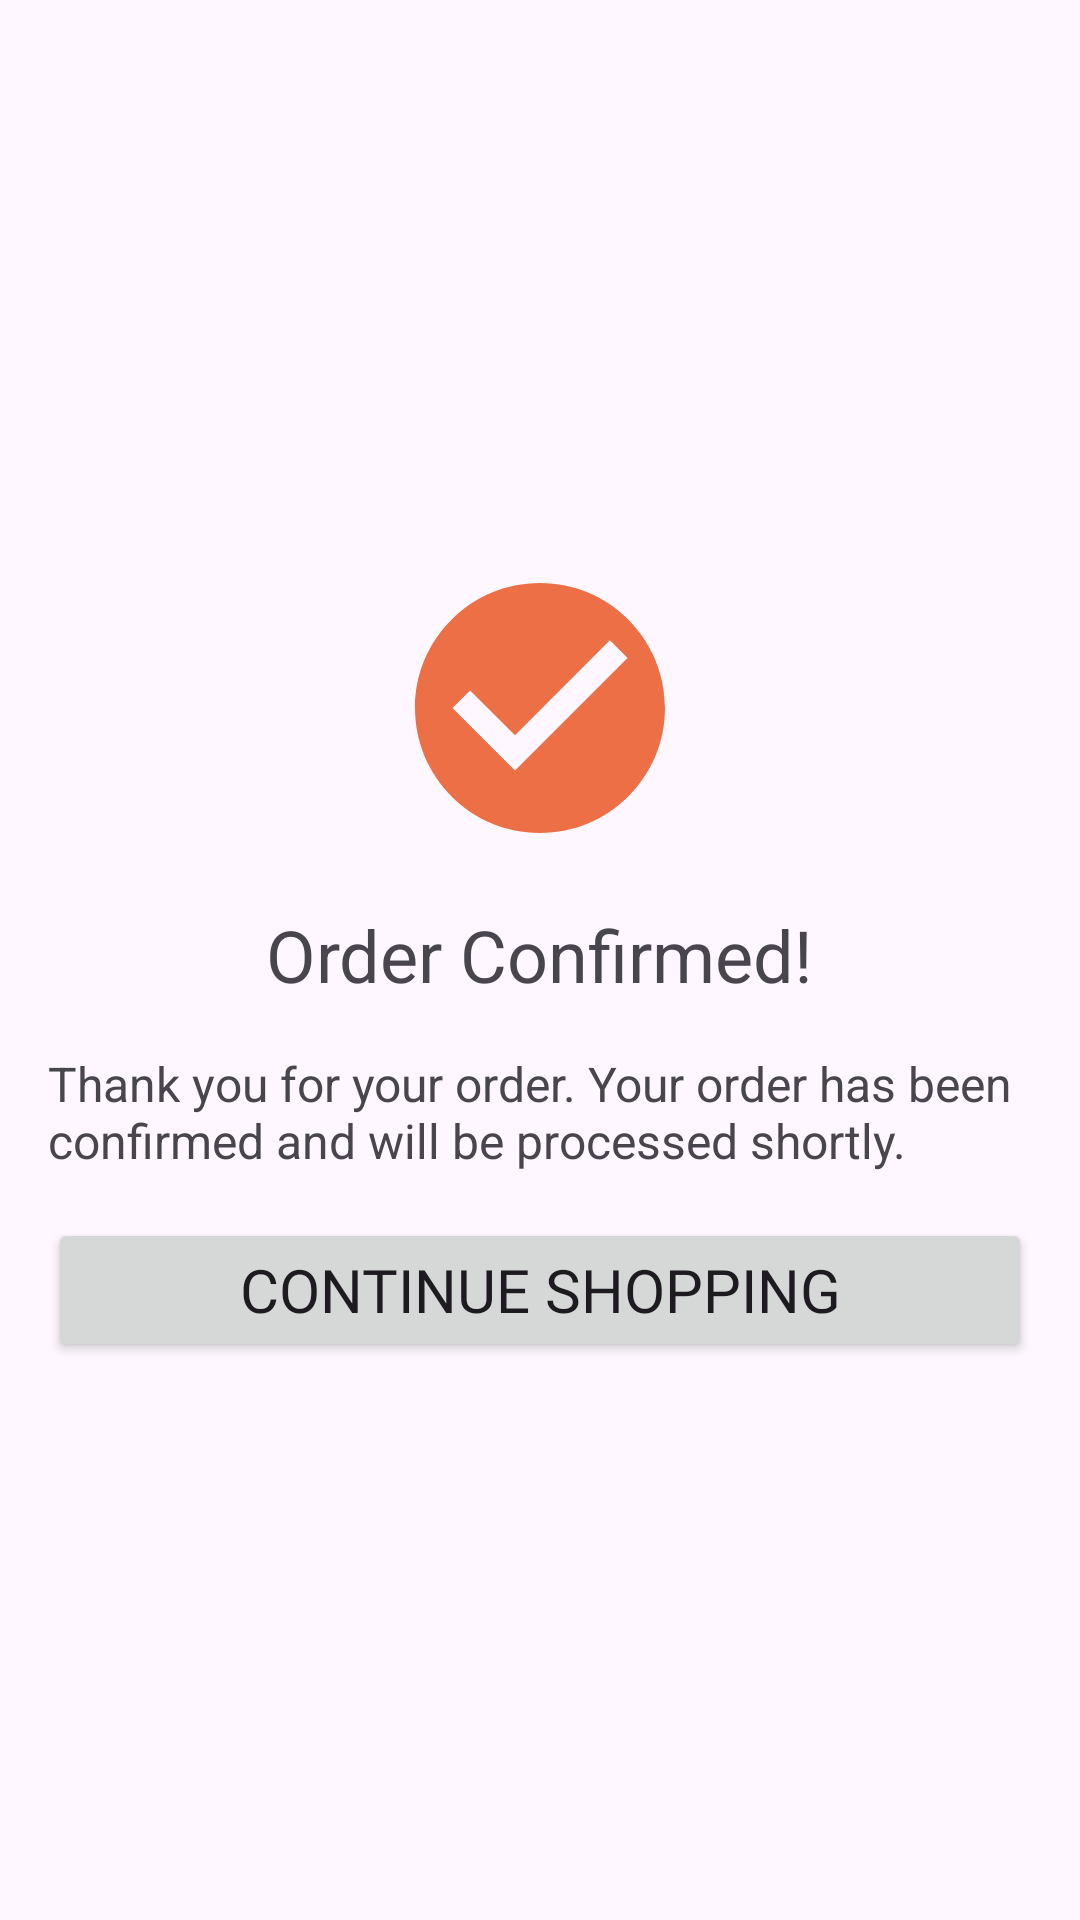

Named icons in this screenshot (1080px x 1920px) and their centers, (x,y):
check circle: (540,708)
